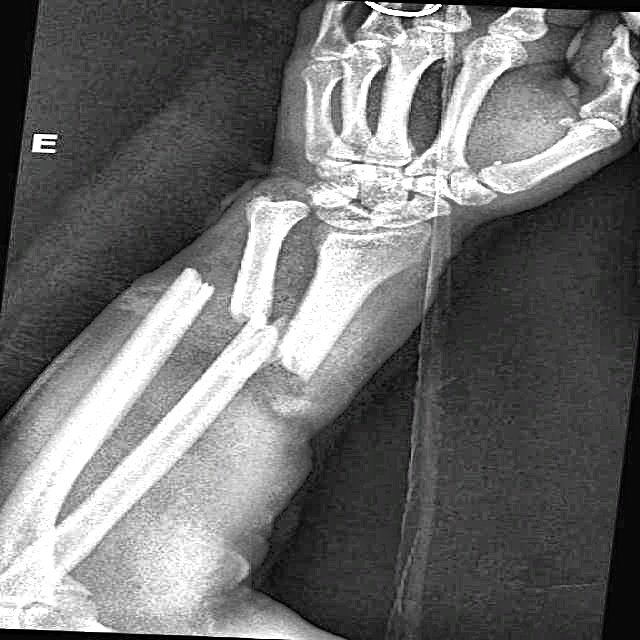Transverse: (160, 249, 296, 337), (236, 306, 340, 387)
